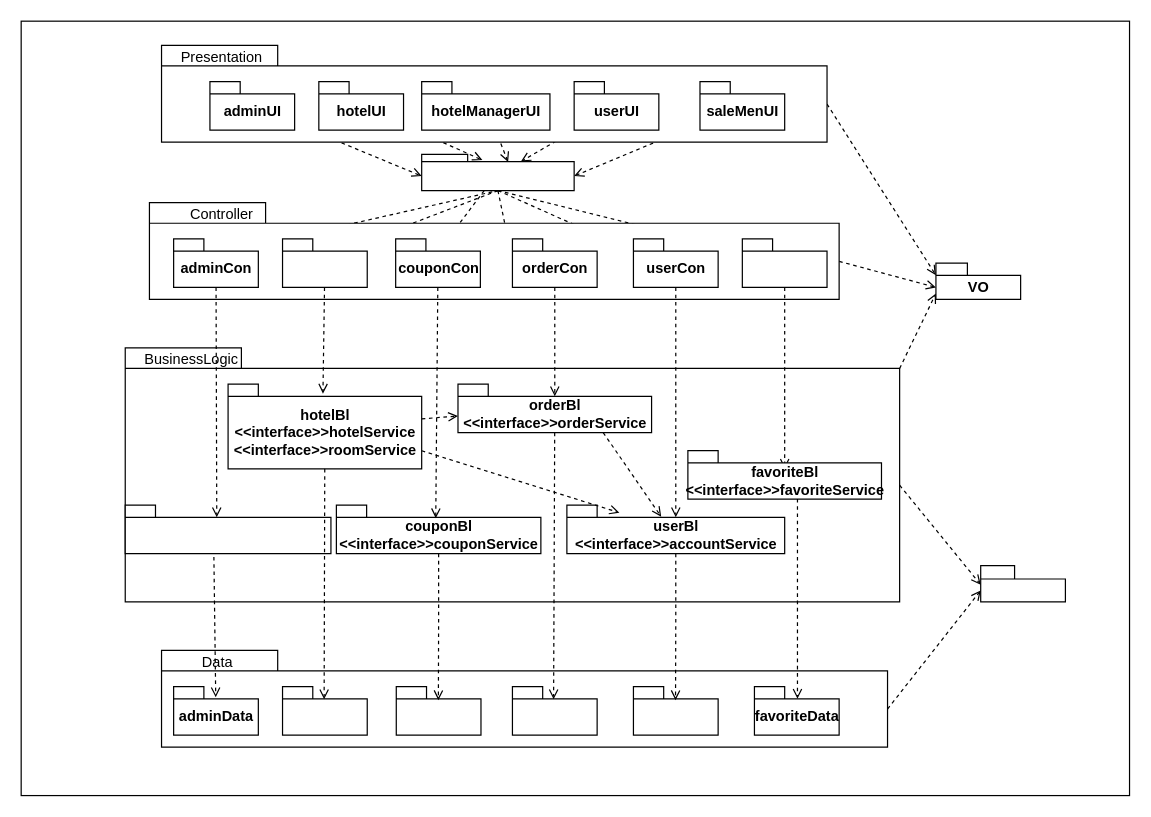
Image size: 1151x817. Some labels were removed from this diagram. The box of each missing label's shape, as (x1, y1, x2, y2) in pixels:
adminBl <<interface>>adminService: (124, 504, 331, 554)
couponData: (395, 685, 481, 735)
favoriteCon: (741, 238, 827, 287)
hotelCon: (281, 238, 367, 287)
hotelData: (281, 685, 367, 735)
HTTP协议: (420, 153, 574, 191)
orderData: (511, 685, 597, 735)
PO: (979, 564, 1065, 602)
userData: (632, 685, 718, 735)
